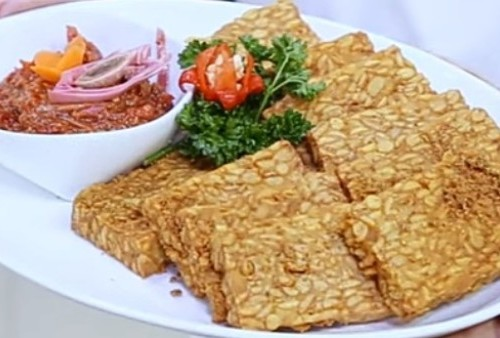Tempe: (330, 188, 478, 298), (203, 234, 354, 335), (75, 154, 200, 275)
